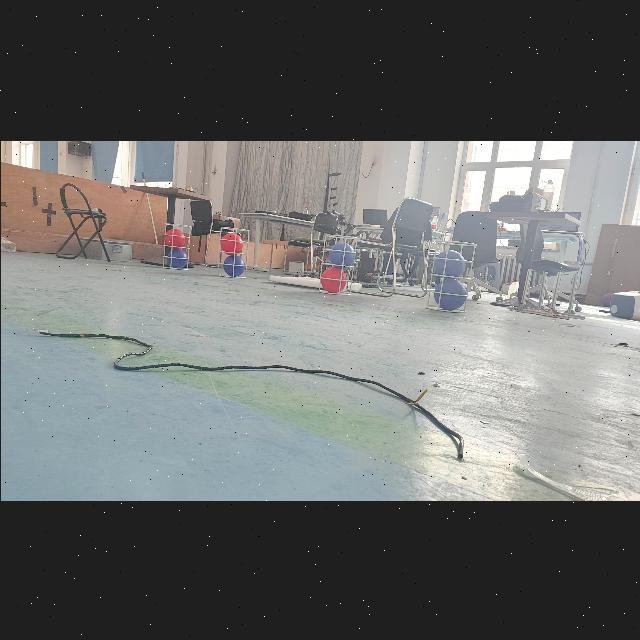B: (432, 276, 468, 310), (434, 250, 464, 278), (328, 240, 354, 268), (222, 254, 244, 276), (166, 248, 186, 266)
R: (318, 266, 346, 292), (218, 232, 242, 254), (162, 228, 184, 248)
S: (423, 235, 477, 315), (316, 231, 360, 297), (214, 223, 252, 280), (158, 221, 192, 273)
